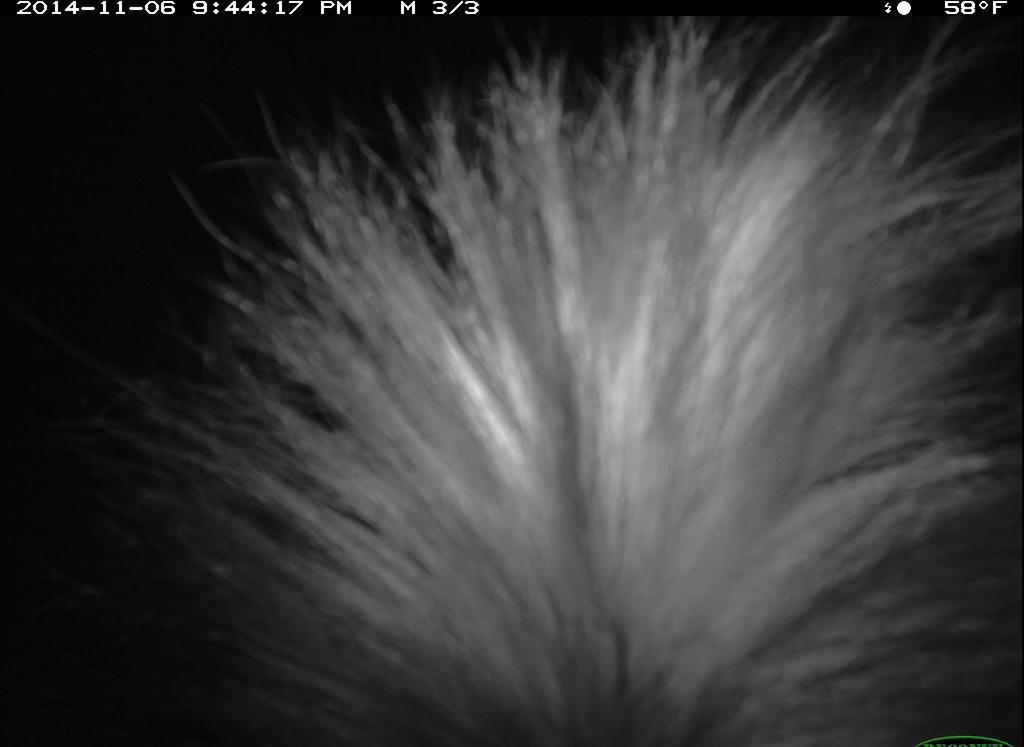skunk: (45, 27, 1024, 747)
